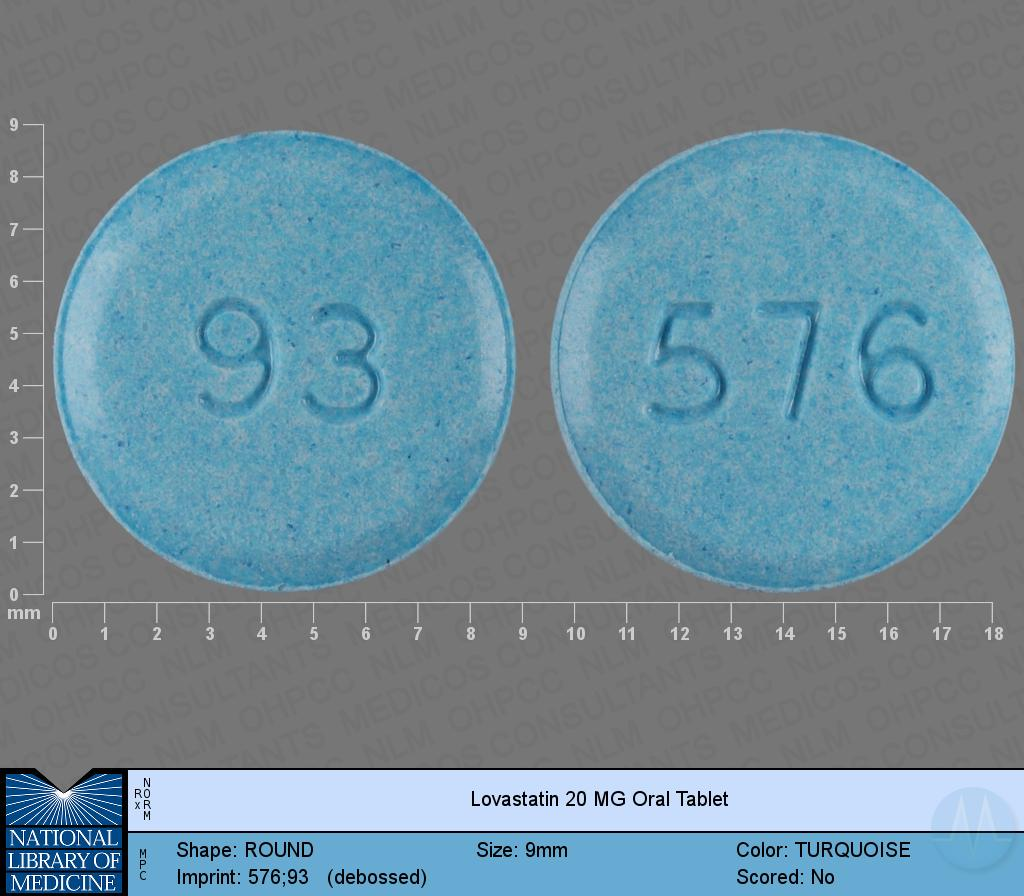Pill: (45, 117, 533, 603), (542, 115, 1024, 598)
